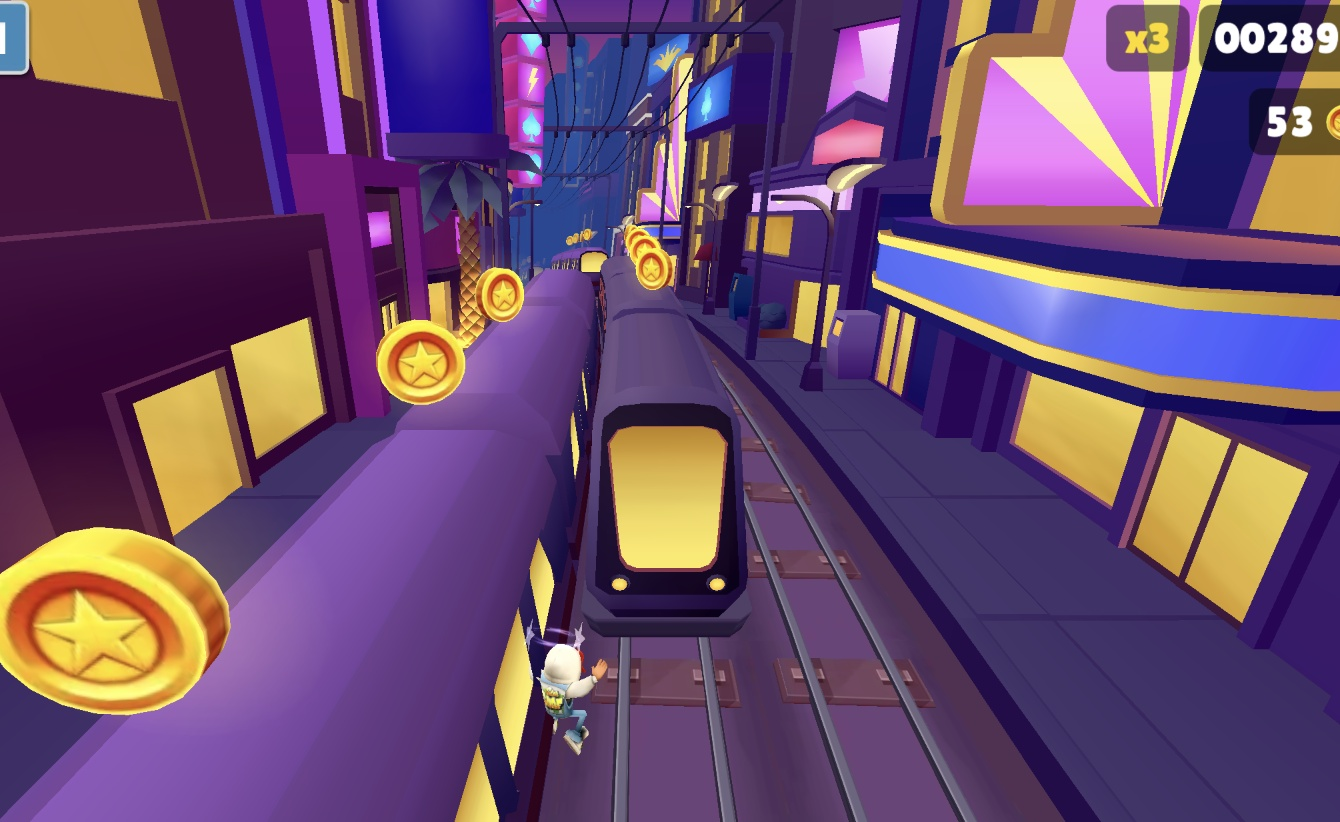train: (0, 269, 609, 822), (574, 241, 747, 632), (553, 247, 610, 299)
